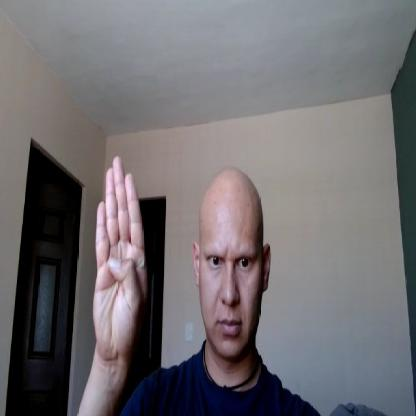B: (93, 154, 148, 355)
